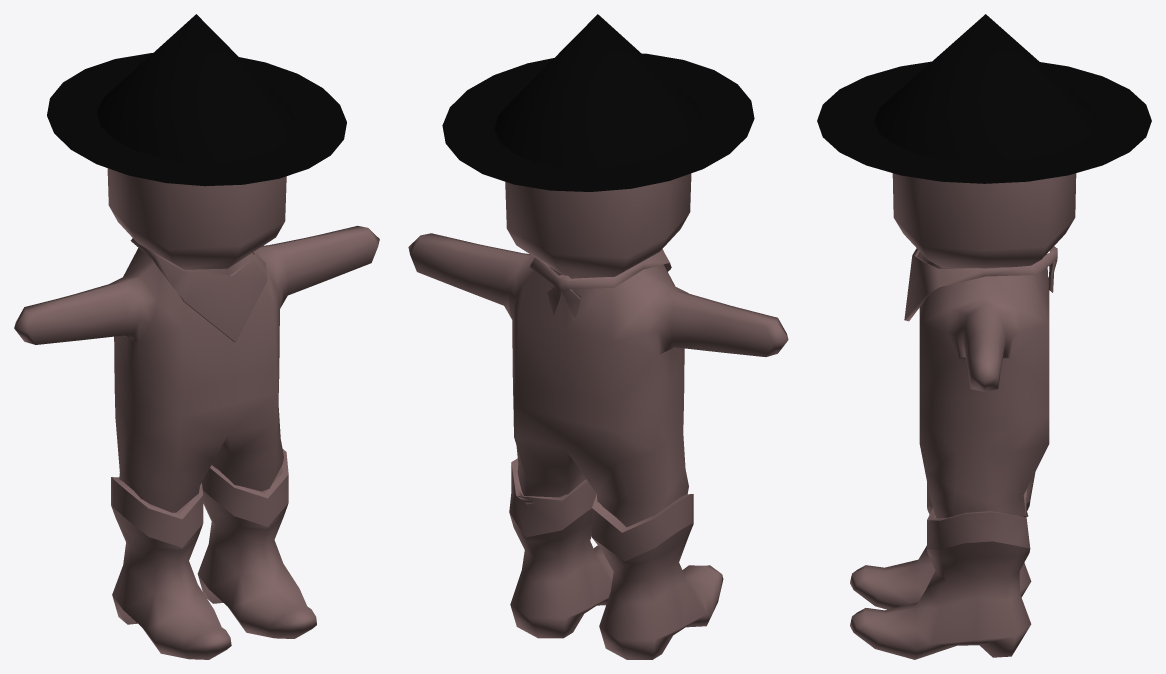
Rendered from Cowboy00.fbx.
The picture shows the model from 3 angles, left to right: view 1: azimuth 30°, elevation 25°; view 2: azimuth 150°, elevation 25°; view 3: azimuth 270°, elevation 25°; orthographic projection. The views are drawn at different scales.
Parts seen in each view (by area): view 1: polySurface4; view 2: polySurface4; view 3: polySurface4.
Boxes of the visible parts, x1,y1,x2,y2 form: polySurface4: (14,14,379,659); polySurface4: (408,14,788,659); polySurface4: (817,14,1151,659).
Bounding box in the file's own units: 106 × 168 × 82.38.
